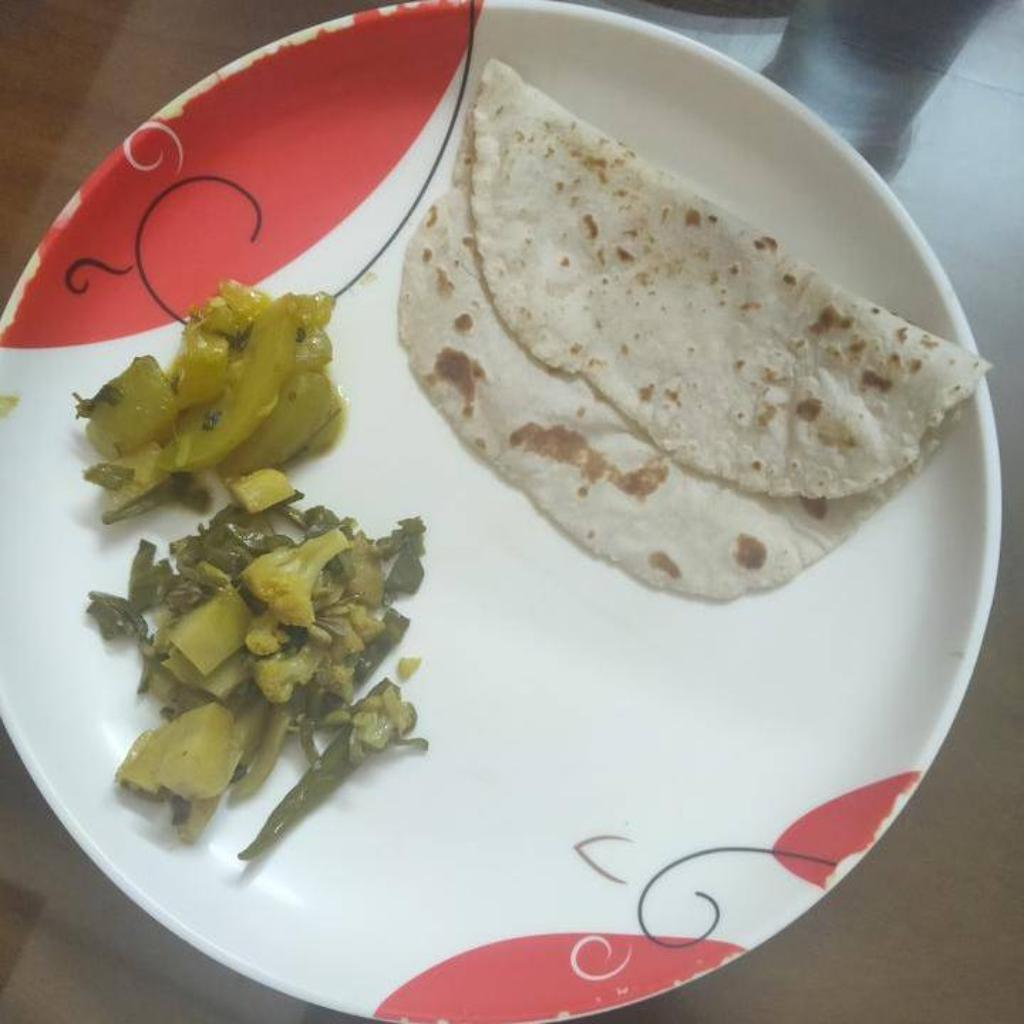cauliflower: (89, 500, 428, 859)
lau: (82, 281, 351, 512)
ruti: (399, 57, 993, 599)
